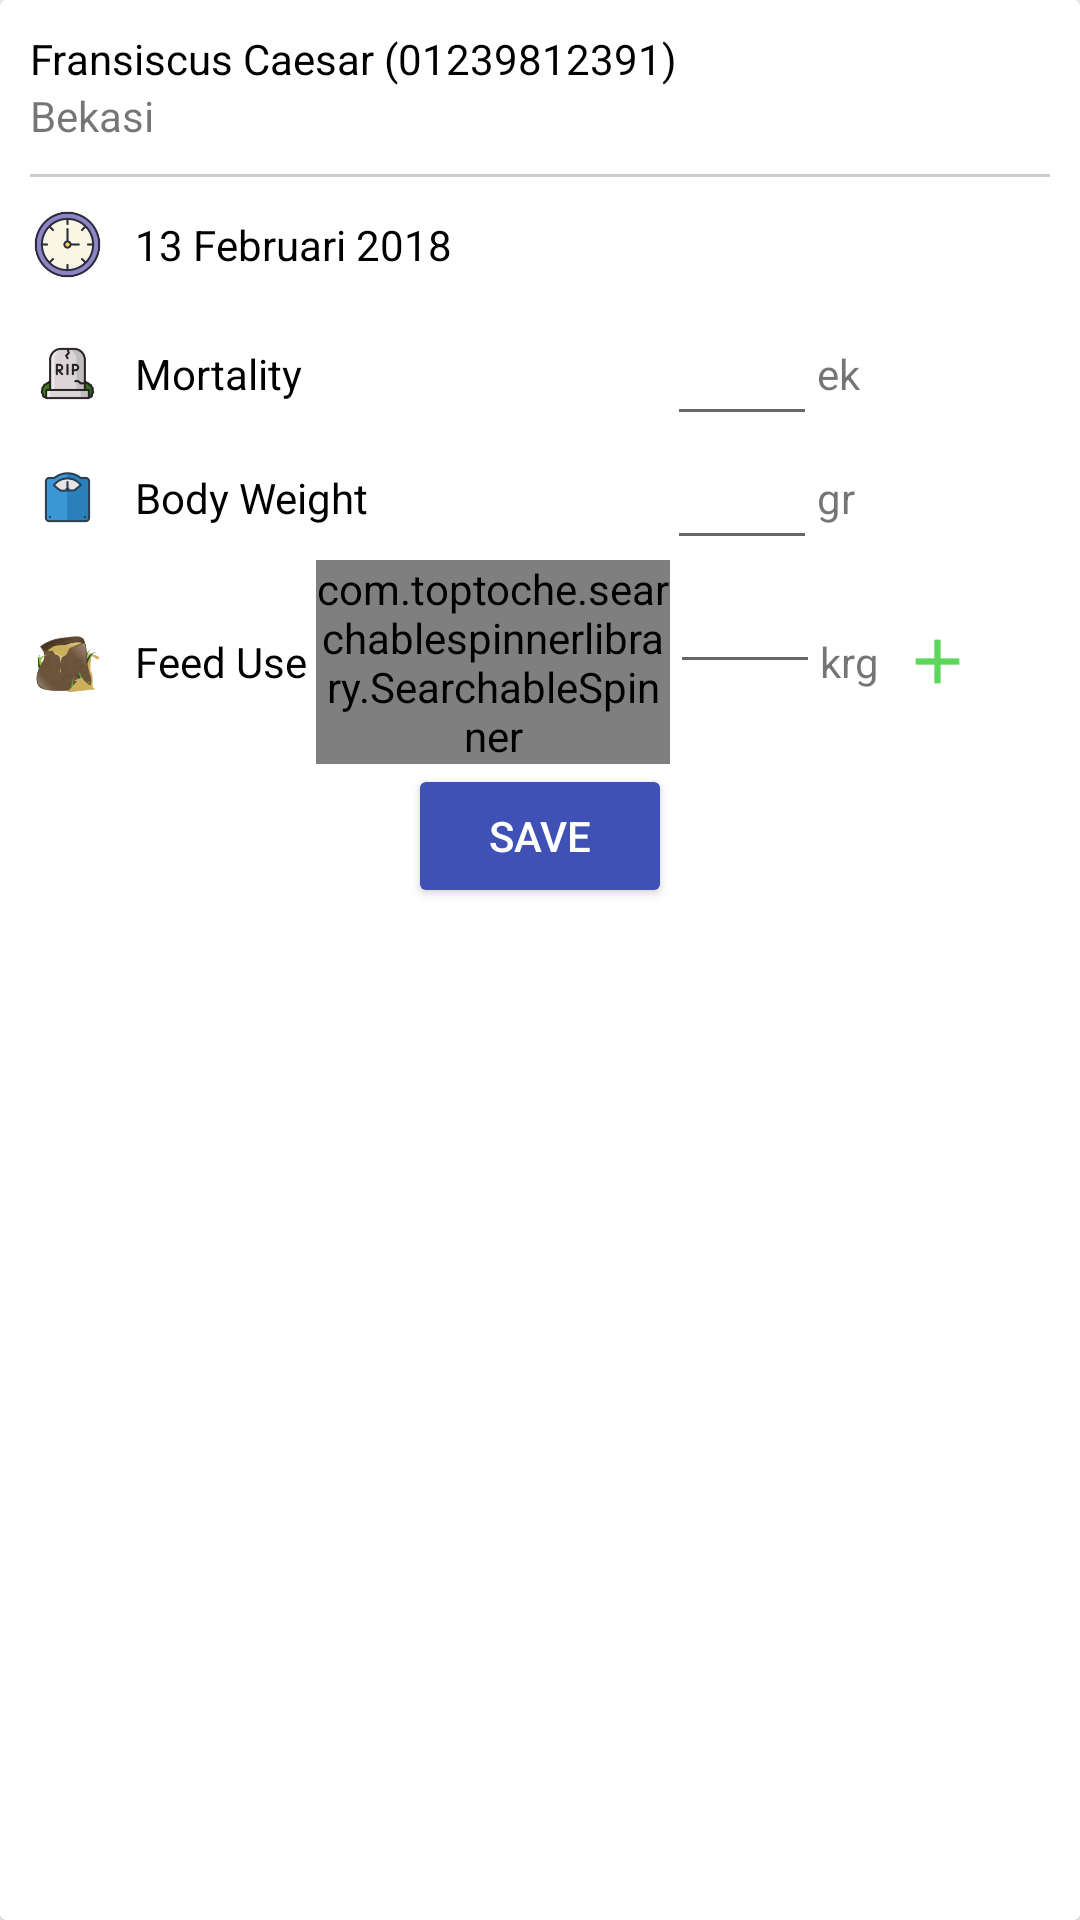

Named icons in this screenshot (1080x1920) and their bounding boxes, box(x1, y1, x2, y2):
add: box(915, 639, 960, 684)
dead: box(41, 347, 94, 400)
time: box(34, 211, 101, 278)
